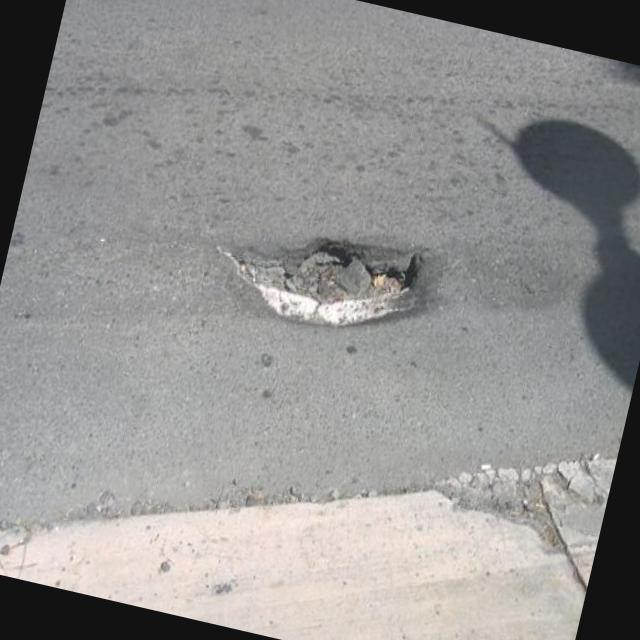pothole: (202, 196, 445, 354)
